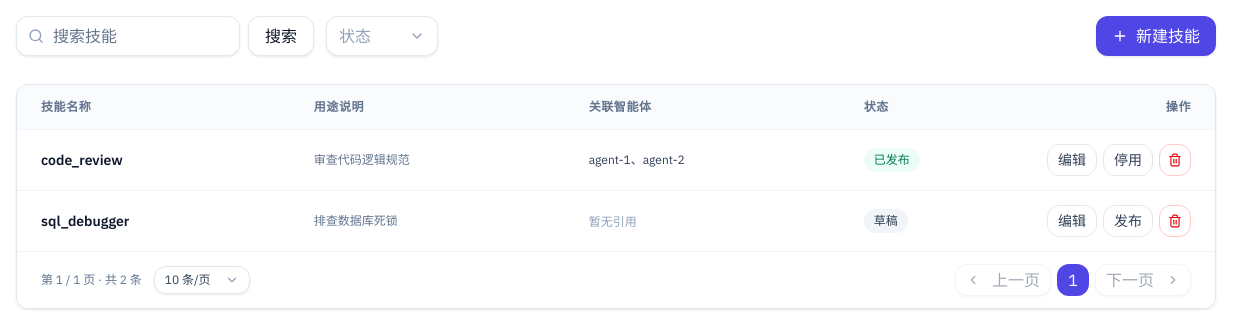
Scenario: SkillsPage › renders skills list in table layout and filters by search query
expect the text "code_review" is shown: met, box x1=41 y1=151 x2=123 y2=169
expect the text "sql_debugger" is shown: met, box x1=41 y1=212 x2=129 y2=230
# Search filter
Type "sql" into the search field at [128, 36], box x1=16 y1=16 x2=240 y2=56
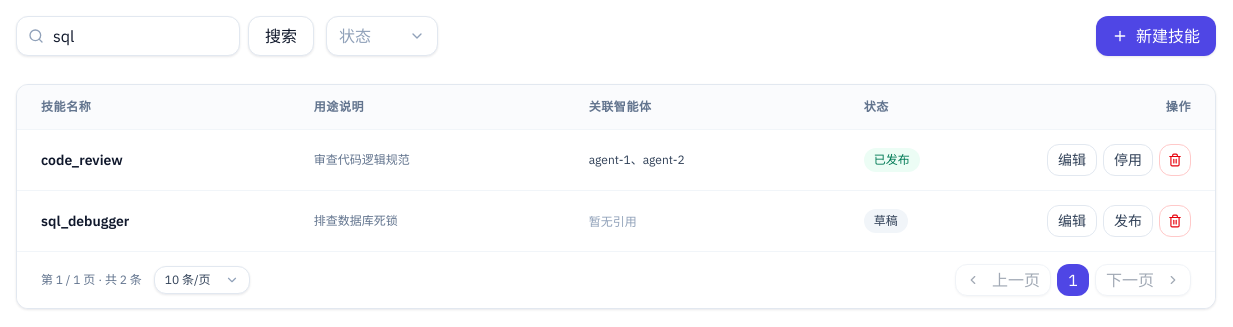
expect the text "code_review" is shown: met, box x1=41 y1=151 x2=123 y2=169
Click the button "搜索" at [281, 36], box x1=248 y1=16 x2=314 y2=56
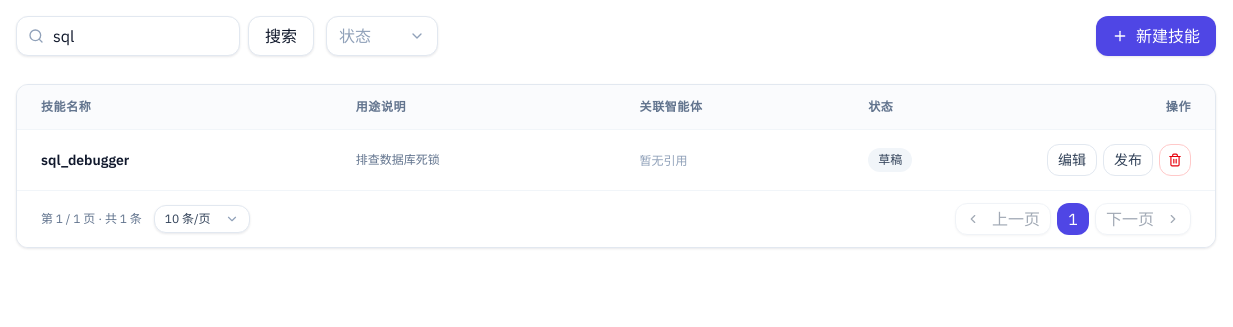
expect the text "sql_debugger" is shown: met, box x1=41 y1=151 x2=129 y2=169
expect the text "code_review" is gone: met
Clear the search field at [128, 36], box x1=16 y1=16 x2=240 y2=56
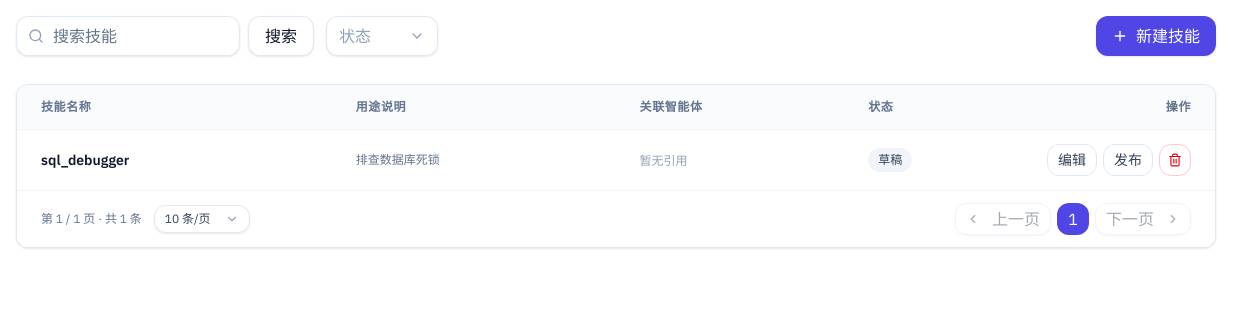
expect the text "code_review" is not shown: met
Submit the form, box x1=16 y1=16 x2=314 y2=56
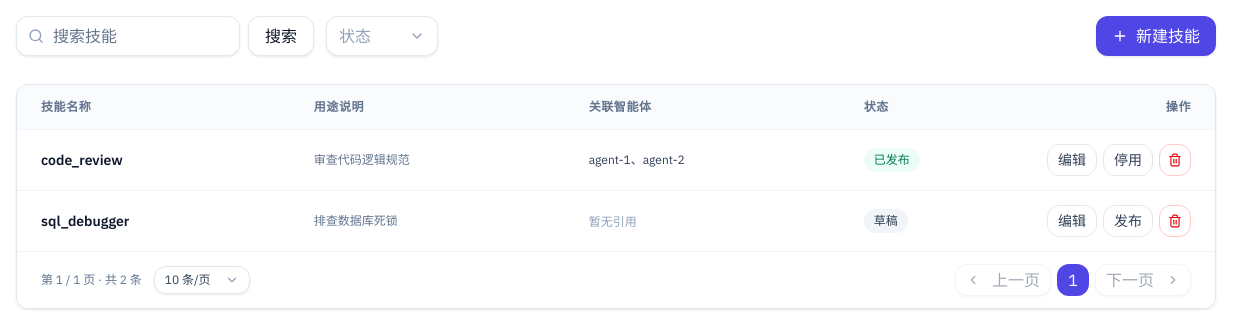
expect the text "code_review" is shown: met, box x1=41 y1=151 x2=123 y2=169
